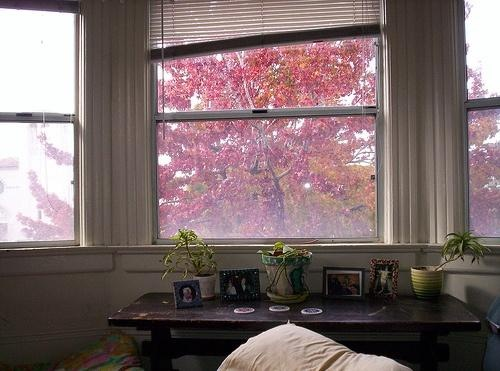pottedplant: (410, 229, 493, 304), (160, 228, 218, 300), (258, 243, 313, 306)
